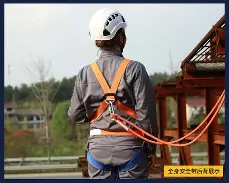safety belt: (77, 58, 152, 147)
